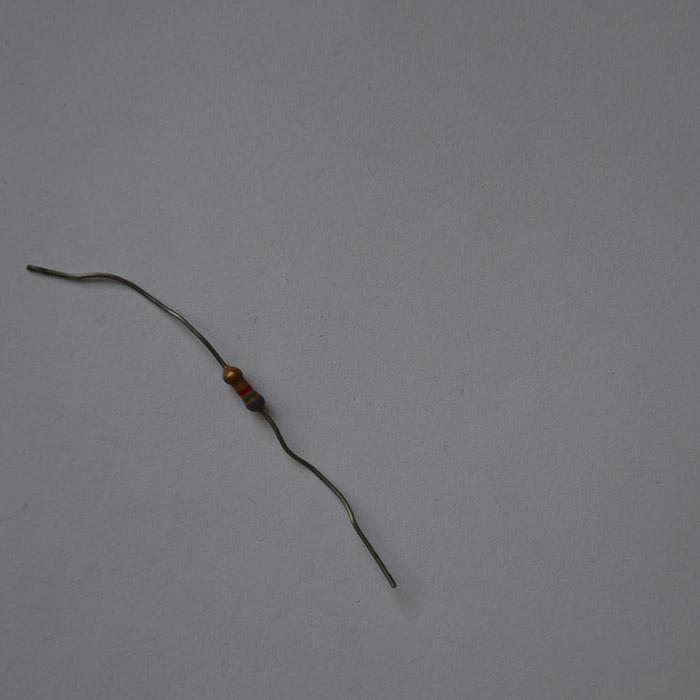resistor: (221, 364, 265, 413)
